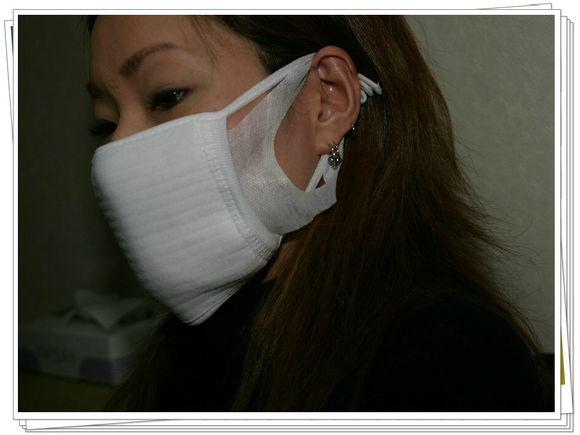OK: (86, 51, 340, 314)
